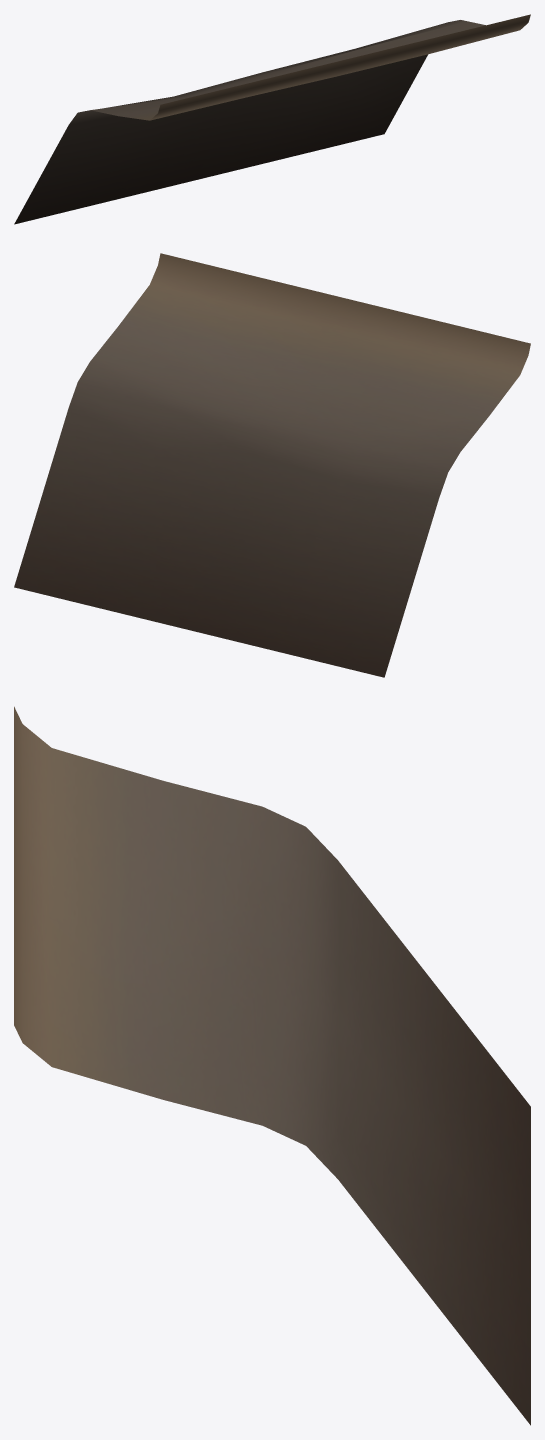
Rendered from SM_Env_GroundSlope_01.fbx.
3 views of the same model, one above another, from view 1: azimuth 30°, elevation 25°; view 2: azimuth 150°, elevation 25°; view 3: azimuth 270°, elevation 25° (orthographic). The views are drawn at different scales.
Parts seen in each view (by area): view 1: pPlane2; view 2: pPlane2; view 3: pPlane2.
Part boxes in pixels (x1,y1,x2,y2): pPlane2: (14,14,530,224); pPlane2: (14,253,530,677); pPlane2: (14,706,530,1425).
Bounding box in the file's own units: 1200 × 703 × 822.
